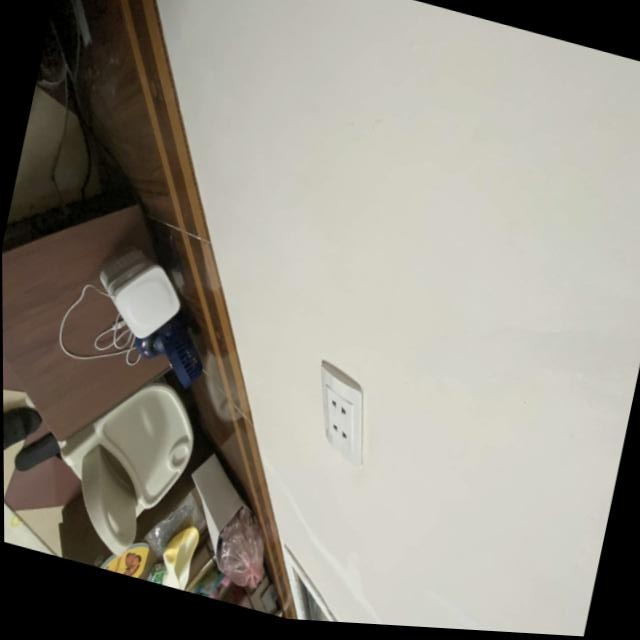outlet: (303, 357, 384, 469)
